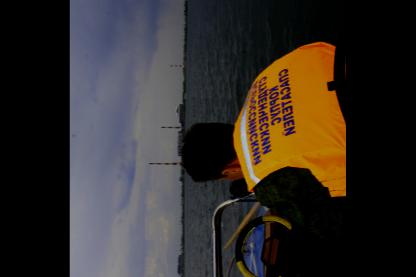B52: (174, 102, 178, 116)
